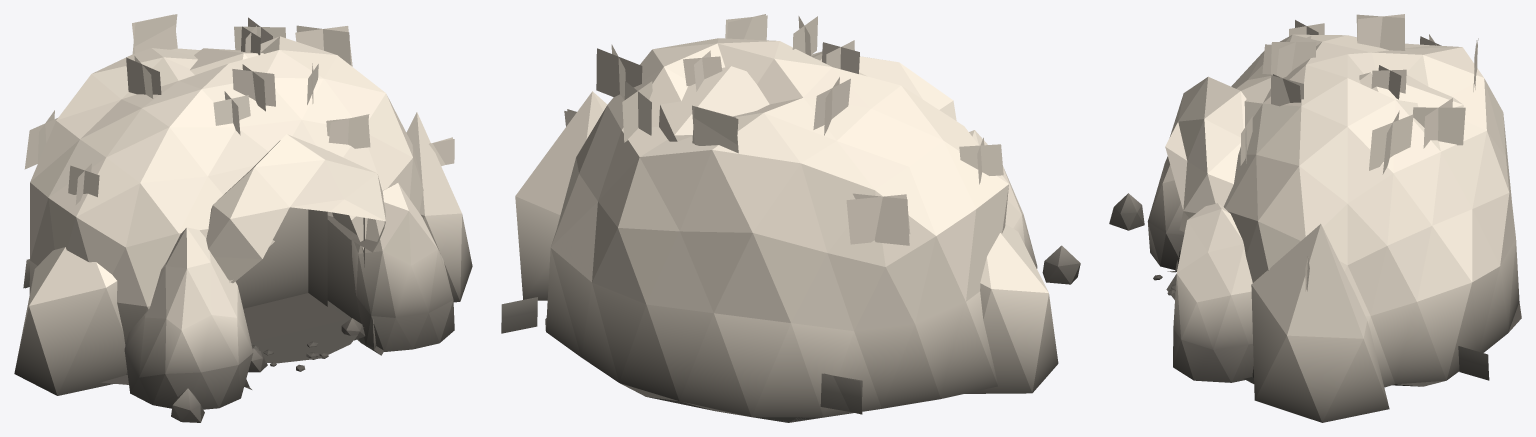
Rendered from SM_VK_Entrance_CaveMouth.fbx.
The picture shows the model from 3 angles, left to right: view 1: azimuth 30°, elevation 25°; view 2: azimuth 150°, elevation 25°; view 3: azimuth 270°, elevation 25°; orthographic projection. The views are drawn at different scales.
Parts seen in each view (by area): view 1: SM_VK_Entrance_CaveMouth.001; view 2: SM_VK_Entrance_CaveMouth.001; view 3: SM_VK_Entrance_CaveMouth.001.
Part boxes in pixels (x1=…): SM_VK_Entrance_CaveMouth.001: x1=14, y1=14, x2=472, y2=422; SM_VK_Entrance_CaveMouth.001: x1=501, y1=14, x2=1080, y2=422; SM_VK_Entrance_CaveMouth.001: x1=1109, y1=14, x2=1521, y2=422.
Bounding box in the file's own units: 8.22 × 4.6 × 6.38.
